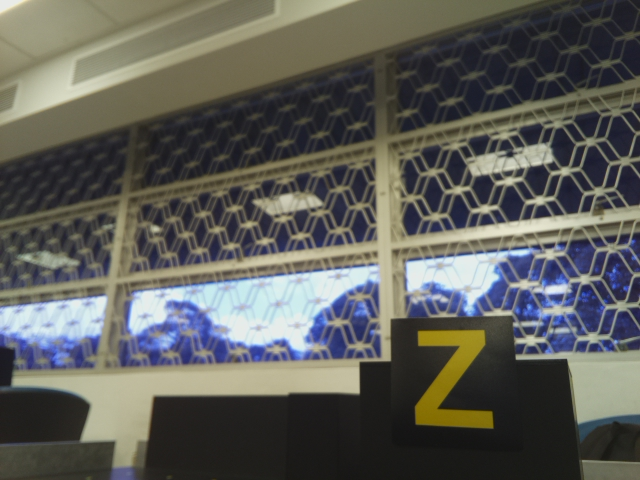z: (407, 327, 494, 430)
